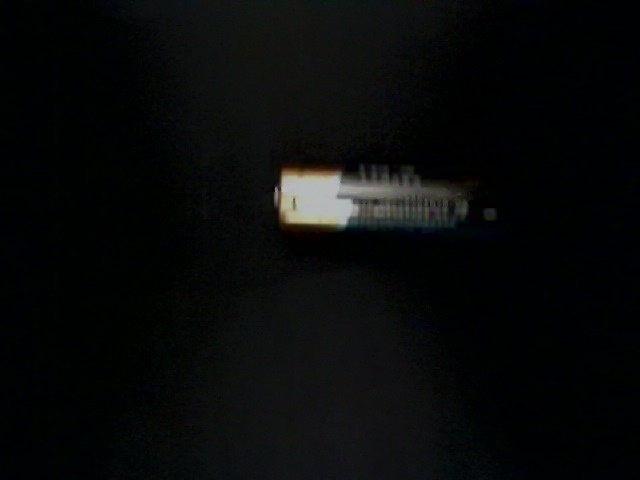QTLJ: (76, 90, 285, 252)
